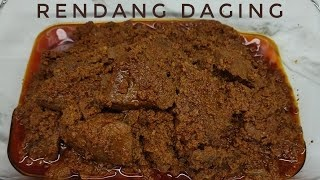rendang: (27, 23, 304, 179)
